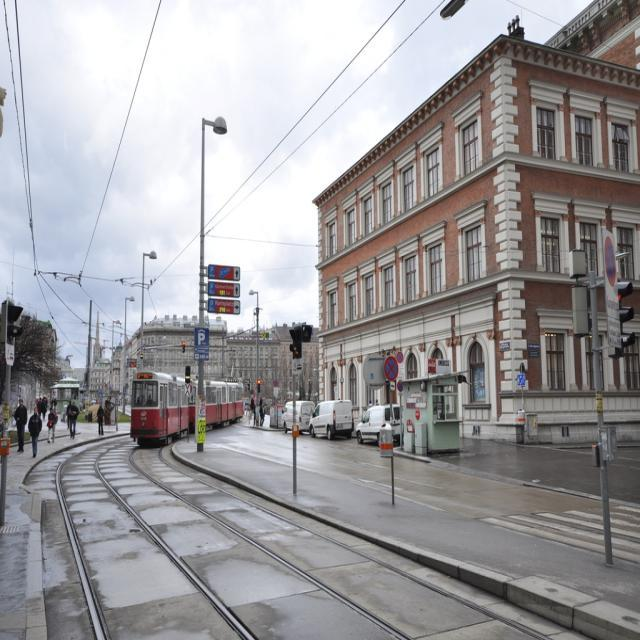traffic light: (611, 280, 634, 358)
